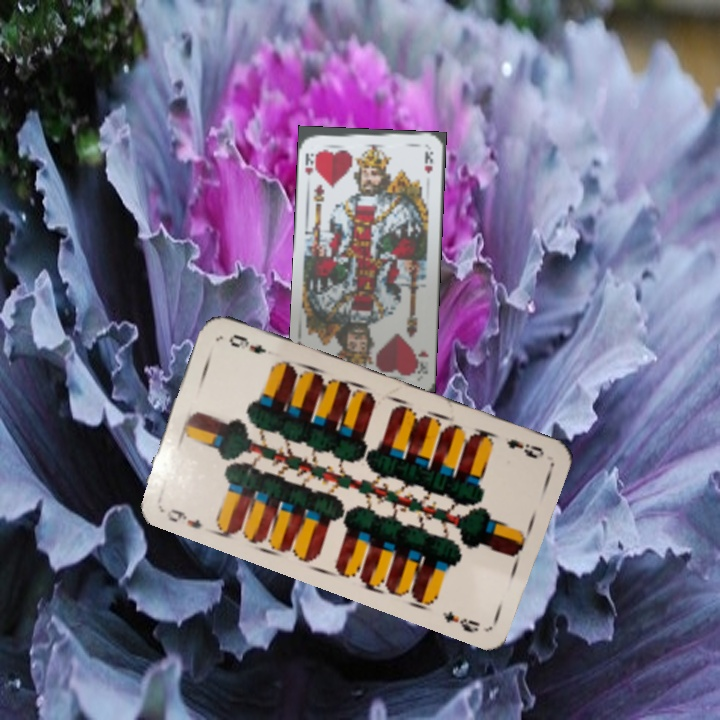E9: (502, 435, 547, 462), (162, 504, 204, 532)
HK: (412, 347, 431, 375), (301, 149, 316, 178)
